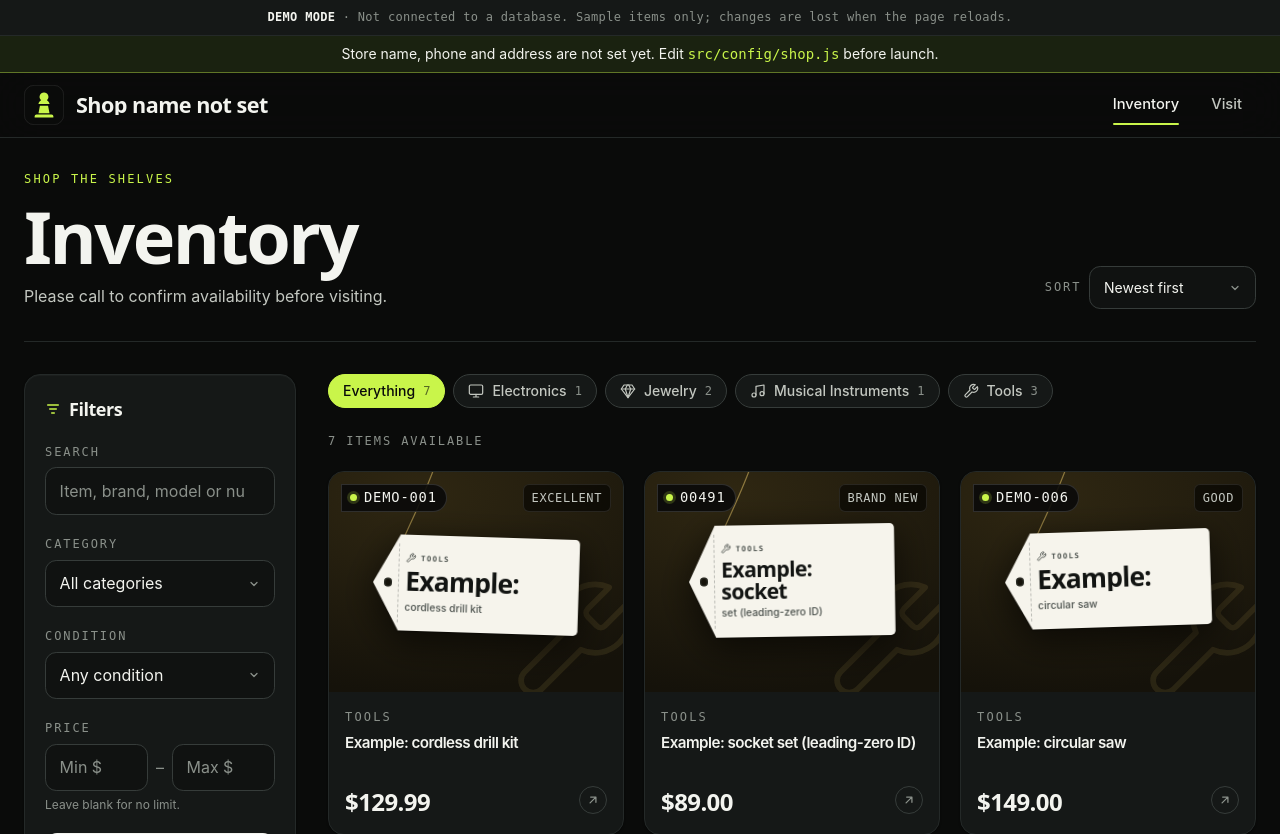
Scenario: storefront › filters by category from the quick category buttons
The width and height of the screenshot is (1280, 834).
Expected: the text "7 items available" is shown, [328, 434, 484, 448]
Click the button "Jewelry 2" at [666, 391], box [605, 374, 727, 408]
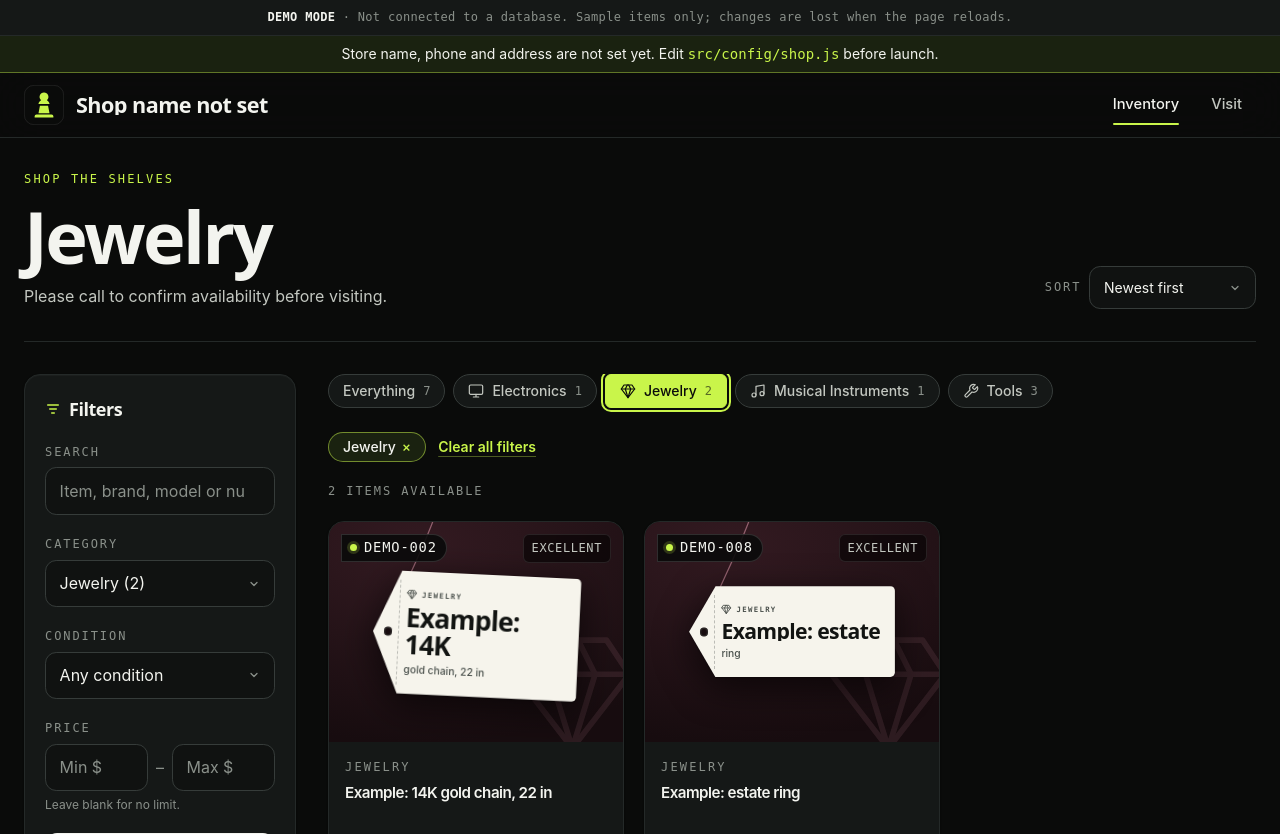
Expected: the text "2 items available" is shown, [328, 484, 484, 498]
